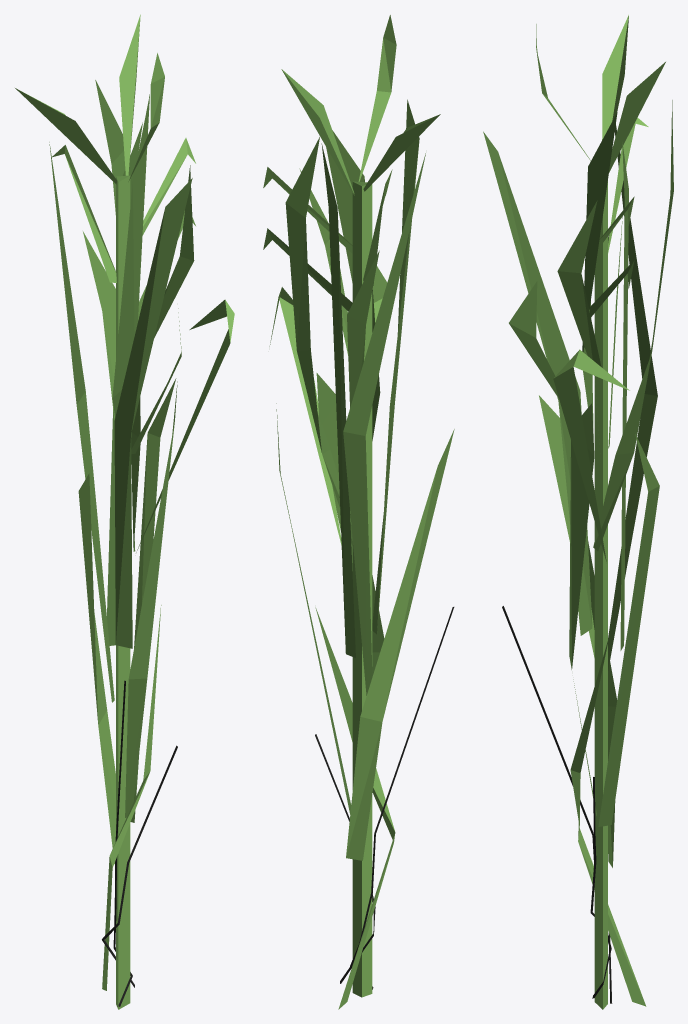
File: Sugarcane_5.fbx
3 views of the same model, side by side, from view 1: azimuth 30°, elevation 25°; view 2: azimuth 150°, elevation 25°; view 3: azimuth 270°, elevation 25° (orthographic). The views are drawn at different scales.
Visible parts, largest first — view 1: Sugeracne_5; view 2: Sugeracne_5; view 3: Sugeracne_5.
Part boxes in pixels (x1,y1,x2,y2): Sugeracne_5: [15, 14, 234, 1009]; Sugeracne_5: [263, 15, 454, 1009]; Sugeracne_5: [483, 15, 673, 1009].
Bounding box in the file's own units: 15.49 × 74.8 × 13.07.
